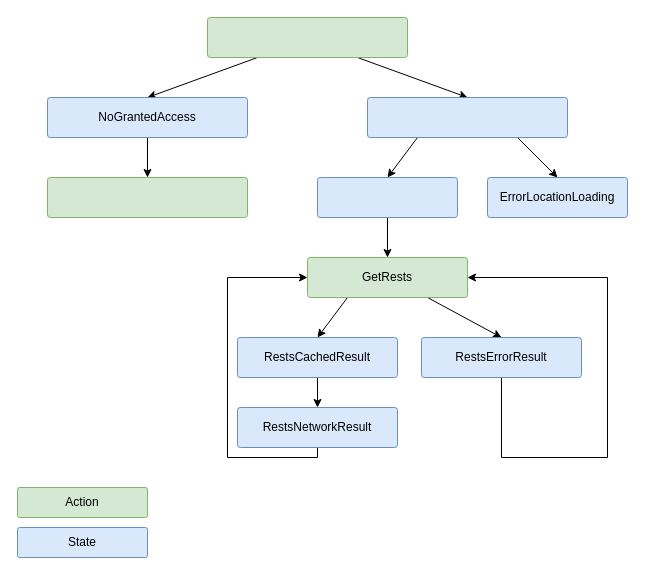
This 645x575 diagram has some shape labels left out. Here are the shapes that lost their labels. From the top down, the centre of each, then its label:
At pixel 307 37: "GetCurrentLocation".
At pixel 467 117: "LoadingLocation".
At pixel 147 197: "RequestLocationAccess".
At pixel 387 197: "CurrentLocationReceived".
